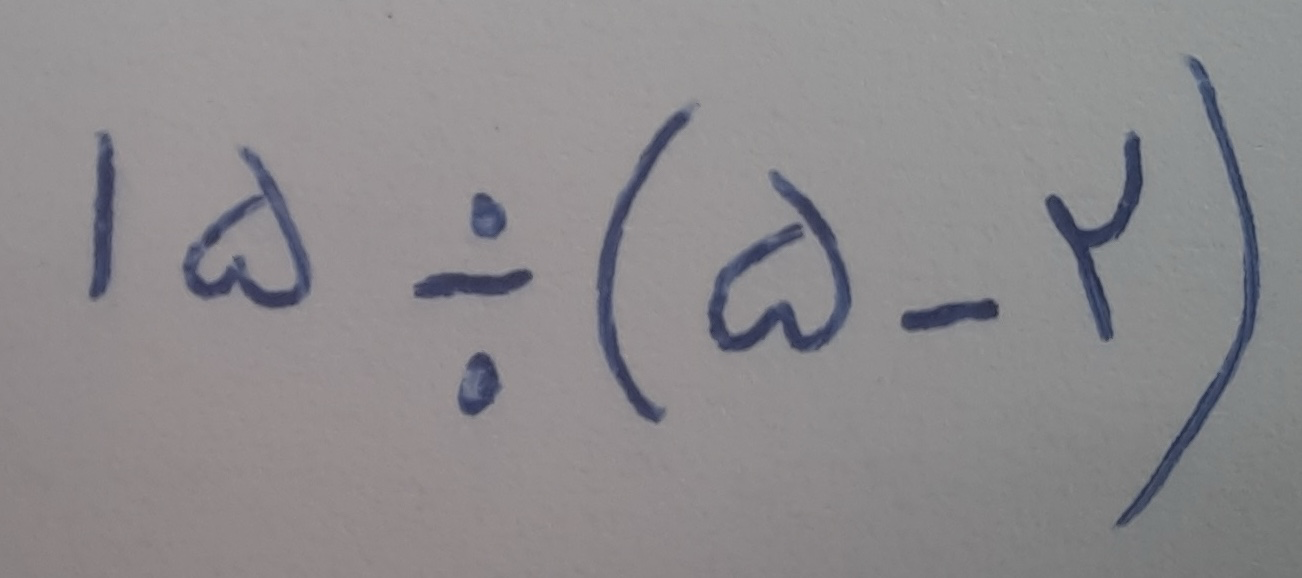character: (1111, 49, 1264, 533), (592, 97, 704, 426), (411, 190, 536, 423), (705, 166, 854, 356), (180, 142, 313, 312), (1044, 130, 1143, 346), (85, 127, 117, 302), (898, 295, 1002, 332)
